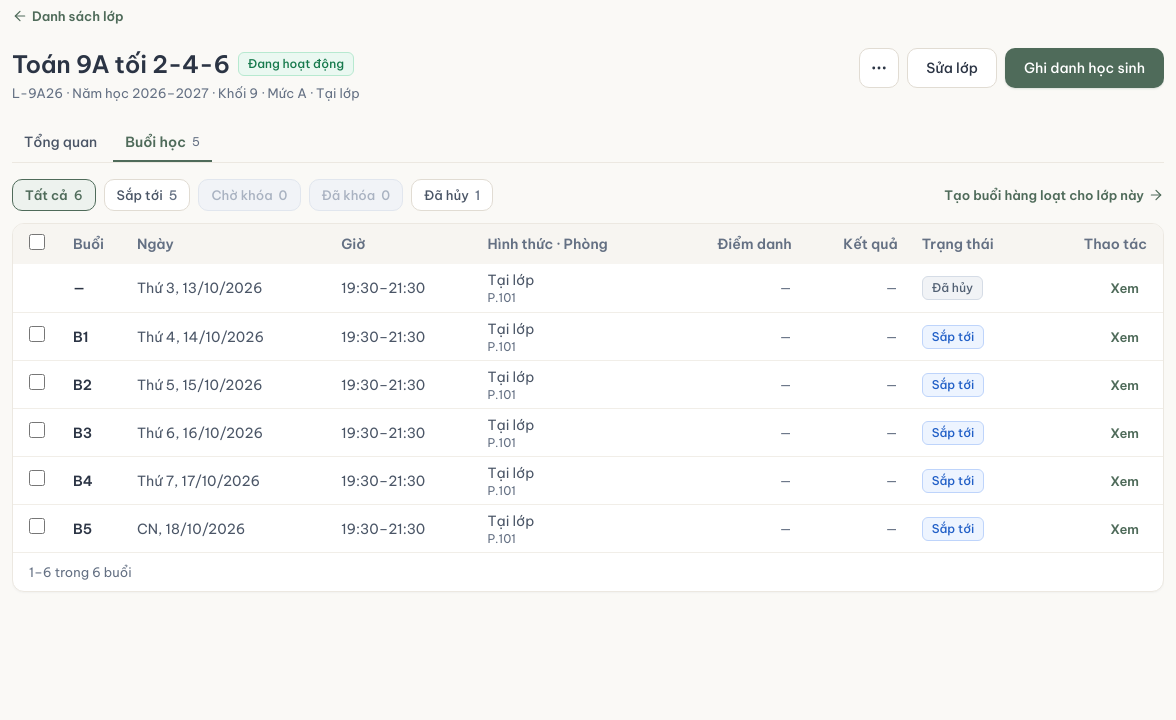
ClassDetailPage sessions tab, bulk and mobile › caps the bulk subject at three ordinals and titles mobile cards like the table
The image size is (1176, 720).
Click the checkbox named "Chọn mọi buổi sắp tới trên trang": point(37, 242) [29,234,45,250]
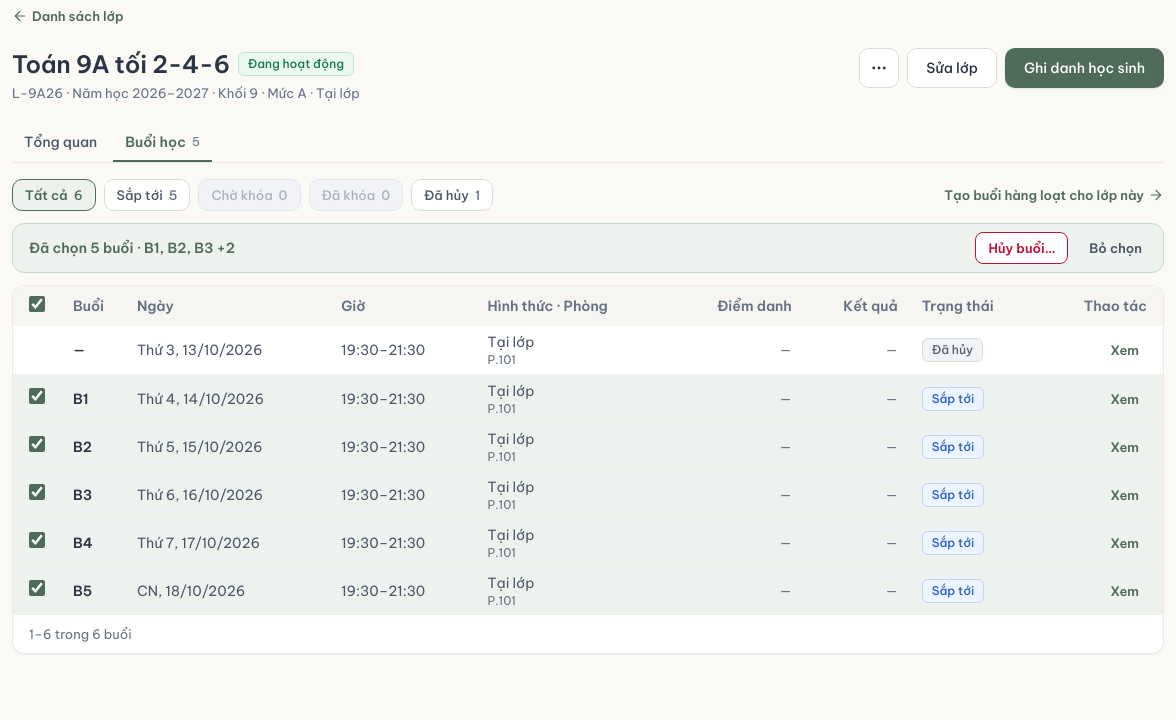
expect the element "Đã chọn 5 buổi · B1, B2, B3 +2" is shown: met, box [12,223,1164,273]
